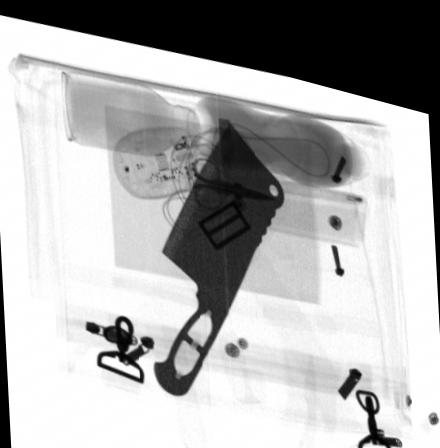Knife: (152, 109, 284, 387)
Scissors: (189, 146, 278, 200)
